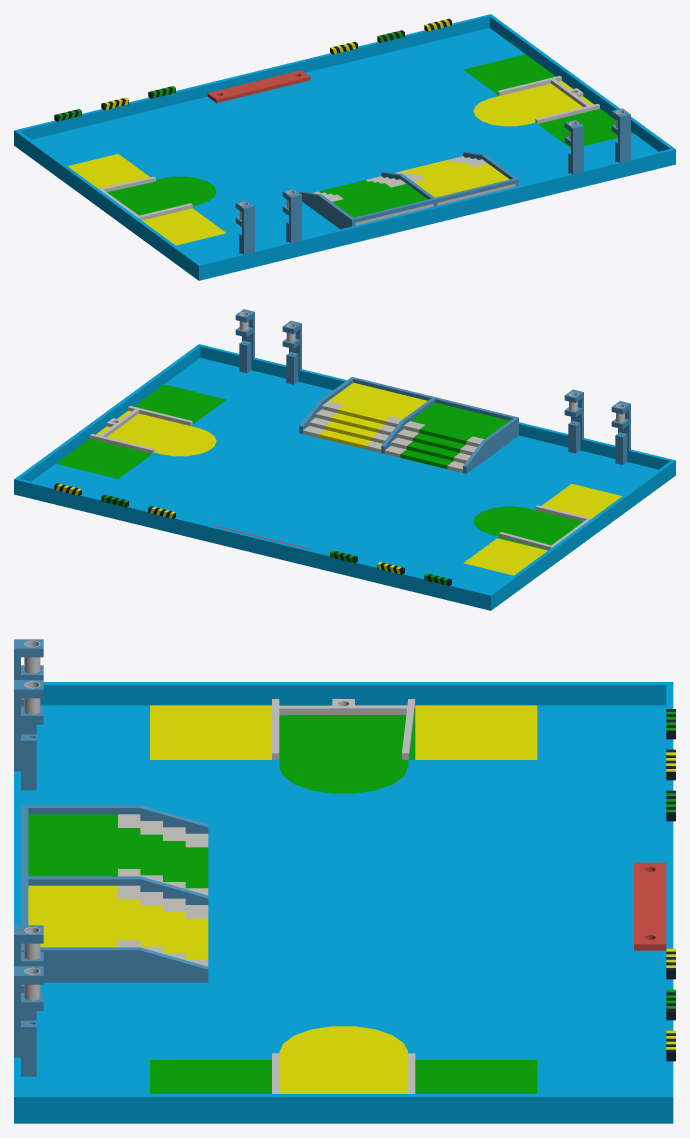
The model's file is table.dae.
The picture shows the model from 3 angles, top to bottom: view 1: azimuth 30°, elevation 25°; view 2: azimuth 150°, elevation 25°; view 3: azimuth 270°, elevation 25°; orthographic projection. The views are drawn at different scales.
Visible parts, largest first — view 1: table; view 2: table; view 3: table.
Boxes of the visible parts, <box> form: table: <box>14,14,675,280</box>; table: <box>14,309,675,610</box>; table: <box>14,639,675,1123</box>.
Bounding box in the file's own units: 3.04 × 2.05 × 0.372.
